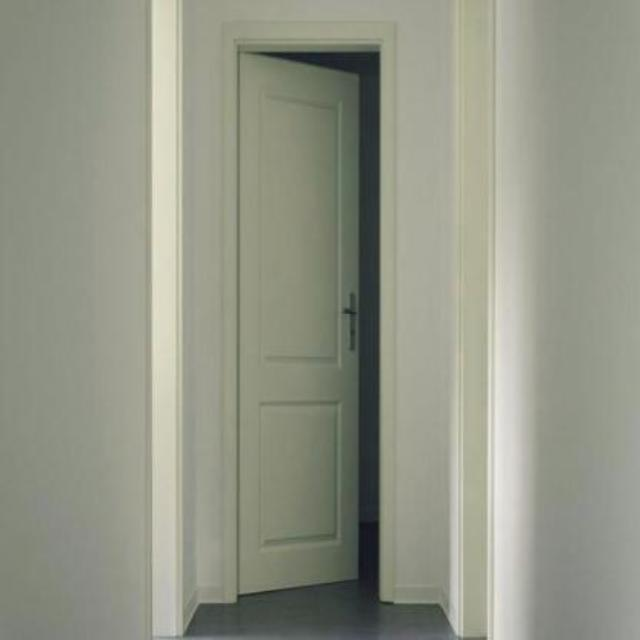door: (236, 51, 361, 595)
